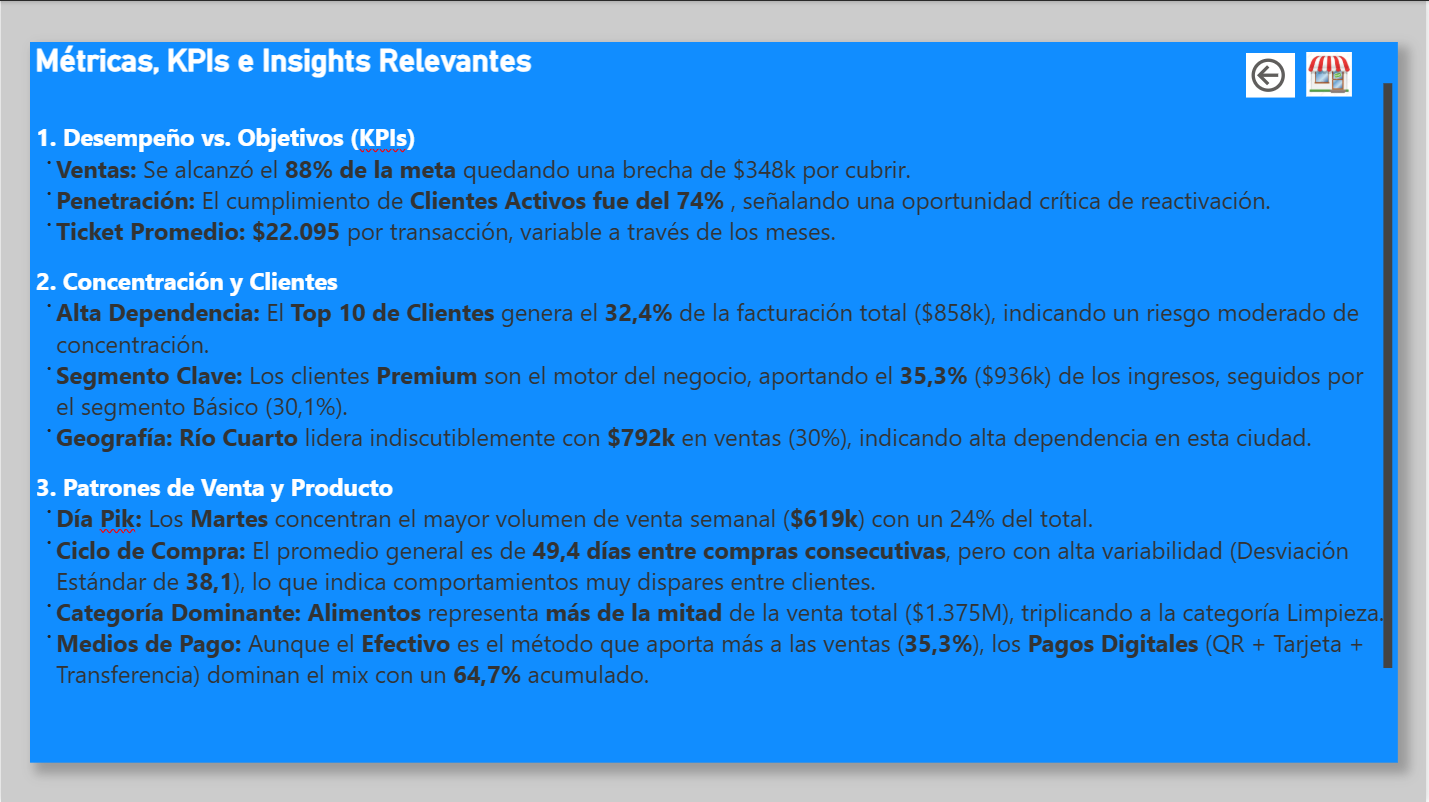

What the dashboard file says about the page in this screenshot:
{"tool":"powerbi","page":{"name":"Insights","canvas":[1280,720],"ordinal":3},"visuals":[{"type":"textbox","title":"Métricas, KPIs e Insights Relevantes","box":[26,36.8,1228.1,647.3],"z":0},{"type":"image","box":[1160.8,45.8,62.8,40.4],"z":1000},{"type":"actionButton","box":[1117.6,46.3,43.5,39.9],"z":2000}]}

Visuals, with their boxes in screenshot pixels (x1, y1, x2, y2), scaled from the page's 1280x720 canvas onto the 1429x802 screenshot:
"Métricas, KPIs e Insights Relevantes" textbox: (29, 41, 1400, 762)
image: (1296, 51, 1366, 96)
actionButton: (1248, 52, 1296, 96)
